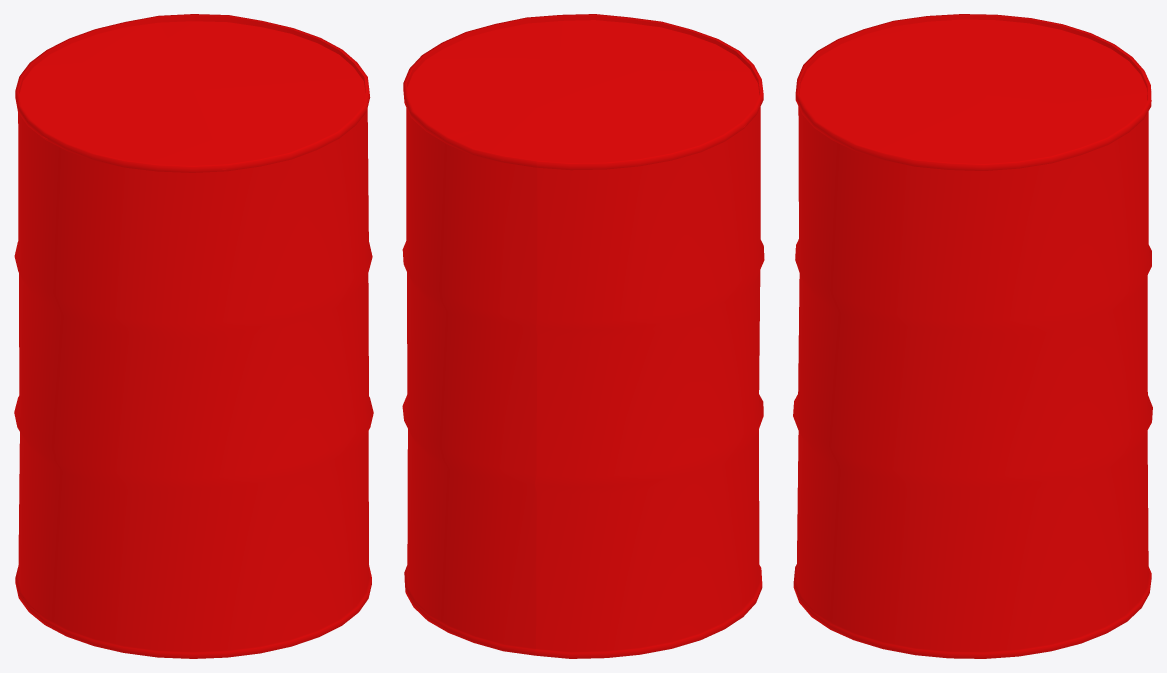
Rendered from SM_Barrel_01_Closed.glb.
3 views of the same model, side by side, from view 1: azimuth 30°, elevation 25°; view 2: azimuth 150°, elevation 25°; view 3: azimuth 270°, elevation 25° (orthographic).
Parts seen in each view (by area): view 1: SM_Barrel_01_Closed_LOD0; view 2: SM_Barrel_01_Closed_LOD0; view 3: SM_Barrel_01_Closed_LOD0.
Boxes of the visible parts, <box> form: SM_Barrel_01_Closed_LOD0: <box>14,14,373,658</box>; SM_Barrel_01_Closed_LOD0: <box>402,14,764,658</box>; SM_Barrel_01_Closed_LOD0: <box>793,14,1152,658</box>.
Bounding box in the file's own units: 0.5958 × 0.9038 × 0.5947.
